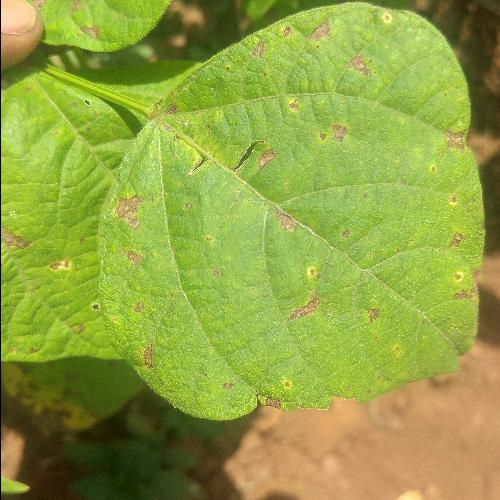hawar: (183, 68, 361, 462), (10, 37, 176, 383), (367, 45, 482, 381)
